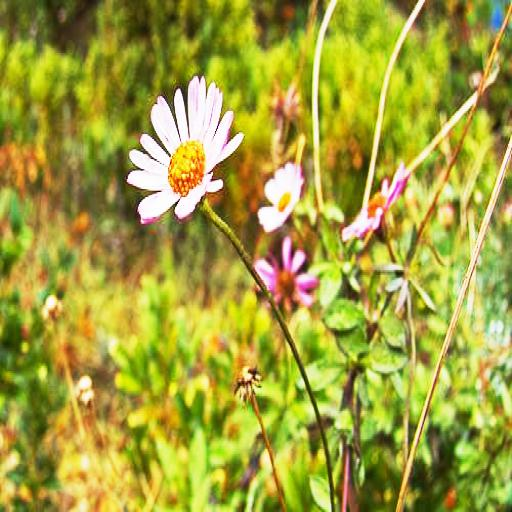daisy: (132, 83, 235, 220), (261, 161, 299, 225)
